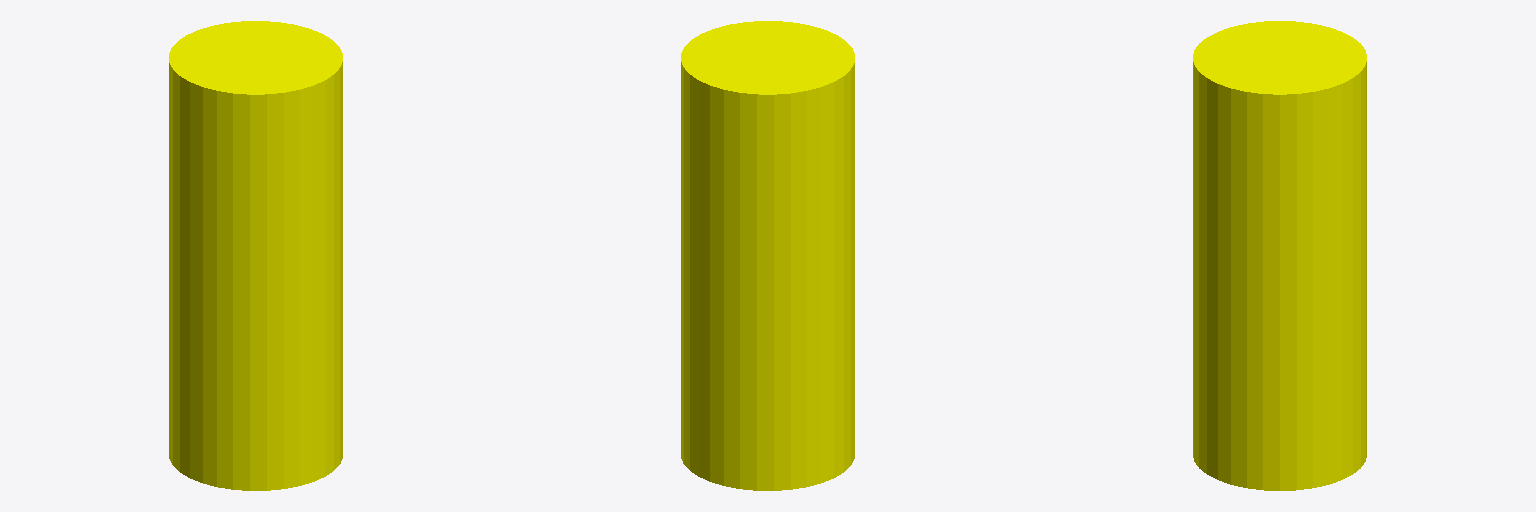
File: body.obj
The picture shows the model from 3 angles: view 1: azimuth 30°, elevation 25°; view 2: azimuth 150°, elevation 25°; view 3: azimuth 270°, elevation 25°; orthographic projection.
Visible parts, largest first — view 1: Cylinder; view 2: Cylinder; view 3: Cylinder.
Part boxes in pixels (left/top/right/bottom): Cylinder: left=169, top=21, right=342, bottom=490; Cylinder: left=681, top=21, right=854, bottom=490; Cylinder: left=1193, top=21, right=1366, bottom=490.
Bounding box in the file's own units: 200 × 500 × 200.